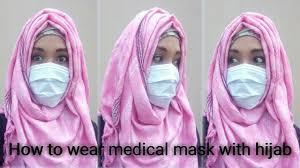Wearing Mask: (214, 9, 296, 121), (15, 2, 90, 119), (129, 2, 194, 116)
